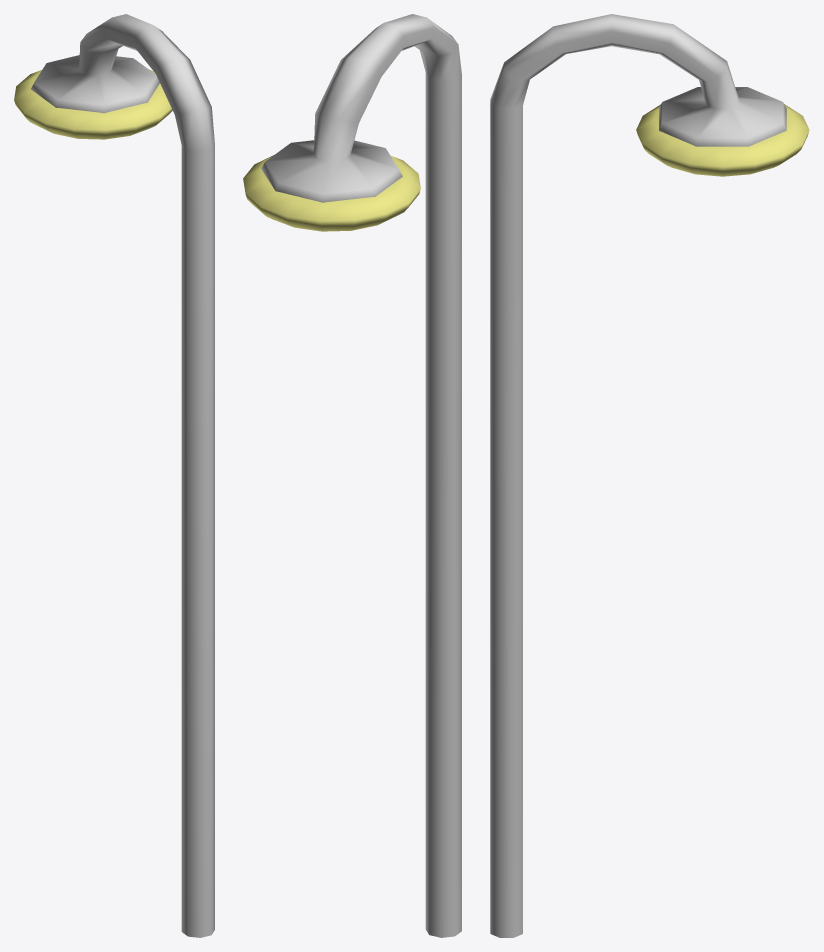
File: LanternPole.fbx
The picture shows the model from 3 angles, left to right: view 1: azimuth 30°, elevation 25°; view 2: azimuth 150°, elevation 25°; view 3: azimuth 270°, elevation 25°; orthographic projection. The views are drawn at different scales.
Visible parts, largest first — view 1: origin, Sphere; view 2: origin, Sphere; view 3: origin, Sphere.
Part boxes in pixels (x1,y1,x2,y2): origin: [31, 14, 214, 937]; Sphere: [14, 69, 172, 139]; origin: [261, 14, 461, 937]; Sphere: [243, 155, 420, 231]; origin: [490, 14, 786, 937]; Sphere: [636, 104, 809, 176].
Bounding box in the file's own units: 349 × 2029 × 642.
